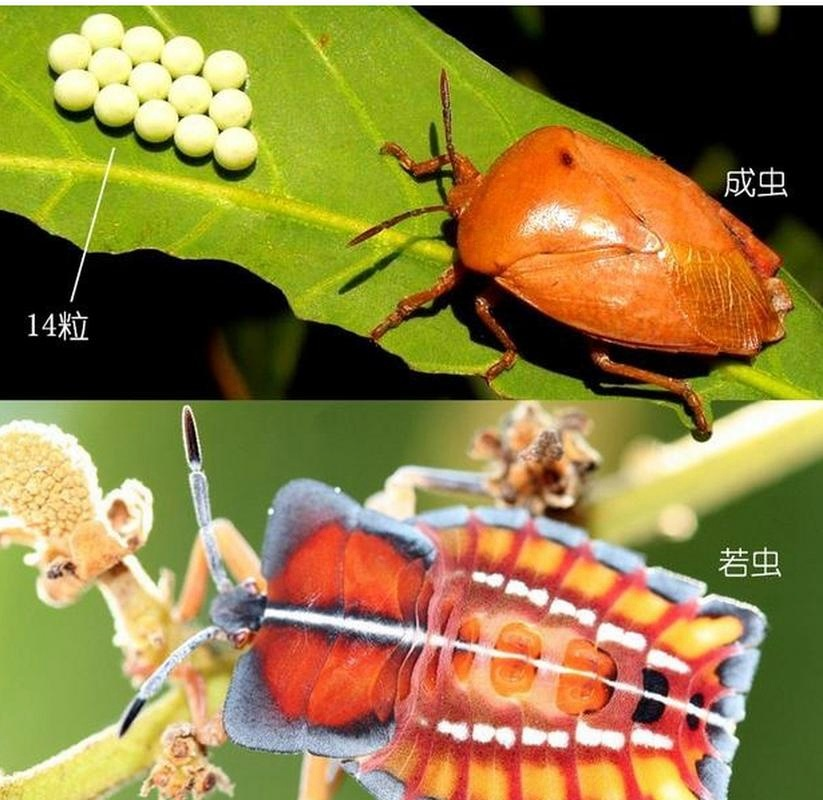Stink_Bug: (174, 431, 763, 800), (419, 111, 777, 374), (30, 13, 261, 177)
